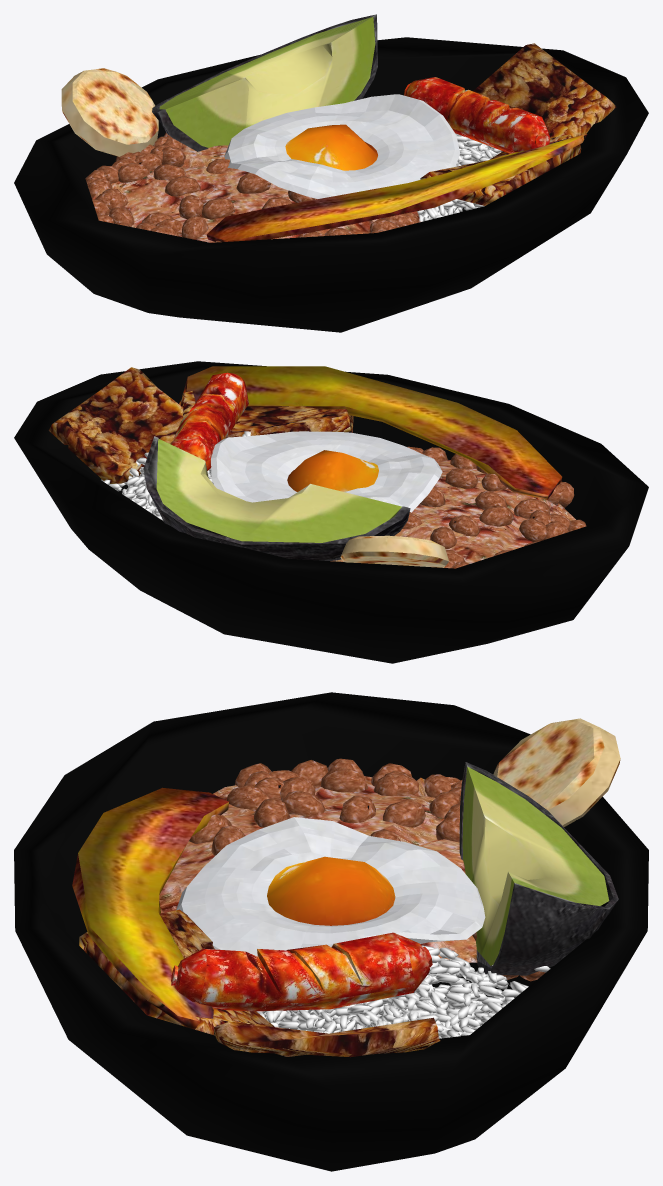
The model's file is bandeja_paisa.glb.
3 views of the same model, one above another, from view 1: azimuth 30°, elevation 25°; view 2: azimuth 150°, elevation 25°; view 3: azimuth 270°, elevation 25° (orthographic). The views are drawn at different scales.
Parts seen in each view (by area): view 1: Object_2.003, Object_7.002, Object_4.002, Object_5.002, Object_46.001, Object_8.004, Object_3.002, Object_6.004, Object_42.001, Object_44.001, Object_41.001, Object_43.001 (+1 smaller); view 2: Object_2.003, Object_5.002, Object_7.002, Object_46.001, Object_4.002, Object_3.002, Object_41.001, Object_6.004, Object_8.004, Object_44.001, Object_42.001, Object_45.001 (+1 smaller); view 3: Object_2.003, Object_7.002, Object_5.002, Object_6.004, Object_4.002, Object_46.001, Object_8.004, Object_41.001, Object_3.002, Object_44.001, Object_42.001, Object_43.001 (+6 smaller).
Part boxes in pixels (x1,y1,x2,y2): Object_2.003: (14, 37, 648, 332); Object_7.002: (224, 94, 460, 198); Object_4.002: (159, 17, 375, 147); Object_5.002: (206, 134, 587, 242); Object_46.001: (420, 43, 616, 205); Object_8.004: (61, 68, 158, 156); Object_3.002: (92, 144, 421, 242); Object_6.004: (404, 77, 549, 153); Object_42.001: (85, 136, 399, 242); Object_44.001: (88, 132, 383, 239); Object_41.001: (152, 14, 377, 151); Object_43.001: (86, 144, 418, 236); Object_2.003: (14, 361, 648, 663); Object_5.002: (183, 366, 562, 499); Object_7.002: (211, 431, 442, 512); Object_46.001: (49, 367, 353, 483); Object_4.002: (156, 438, 401, 542); Object_3.002: (330, 460, 575, 563); Object_41.001: (143, 436, 410, 560); Object_6.004: (171, 372, 248, 470); Object_8.004: (340, 535, 448, 567); Object_44.001: (422, 447, 550, 563); Object_42.001: (402, 448, 568, 568); Object_45.001: (445, 468, 574, 541); Object_2.003: (14, 692, 648, 1171); Object_7.002: (176, 817, 485, 956); Object_5.002: (72, 787, 228, 1029); Object_6.004: (171, 932, 432, 1011); Object_4.002: (462, 766, 609, 965); Object_46.001: (79, 909, 440, 1057); Object_8.004: (493, 718, 620, 826); Object_41.001: (459, 762, 618, 975); Object_3.002: (159, 776, 477, 962); Object_44.001: (189, 767, 518, 979); Object_42.001: (160, 763, 476, 940); Object_43.001: (230, 760, 460, 819).
Bounding box in the file's own units: 18.26 × 6.52 × 12.35.
15 materials, 13 textured.
